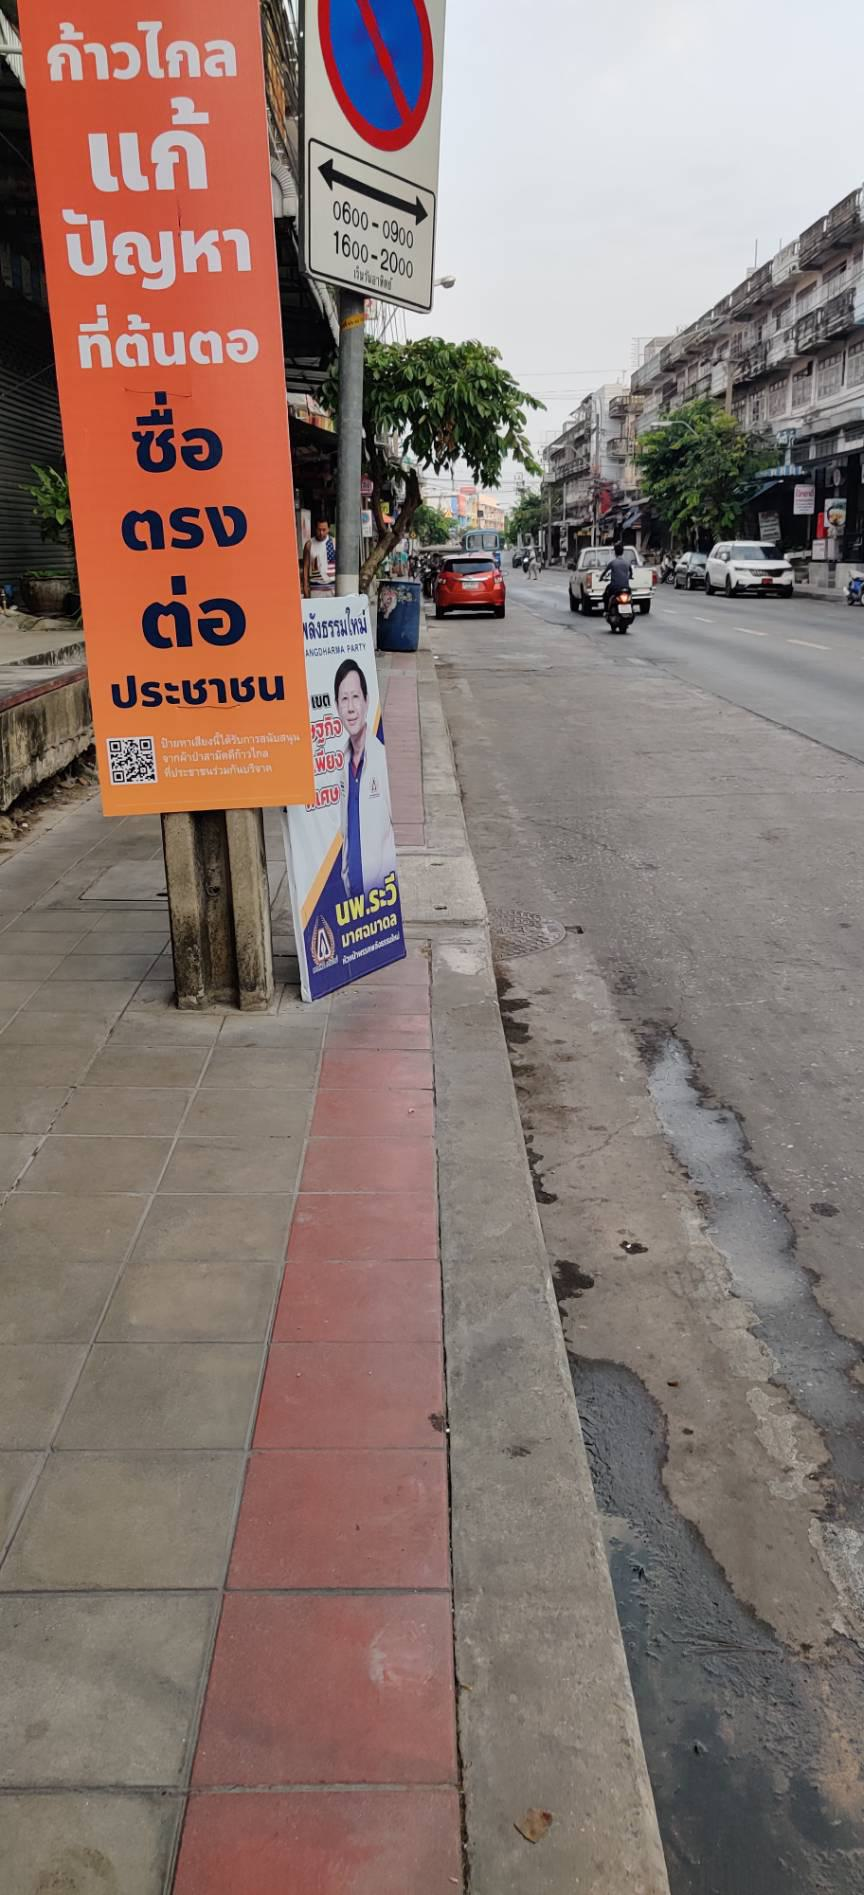Banner: (17, 2, 325, 801), (288, 593, 405, 1014)
